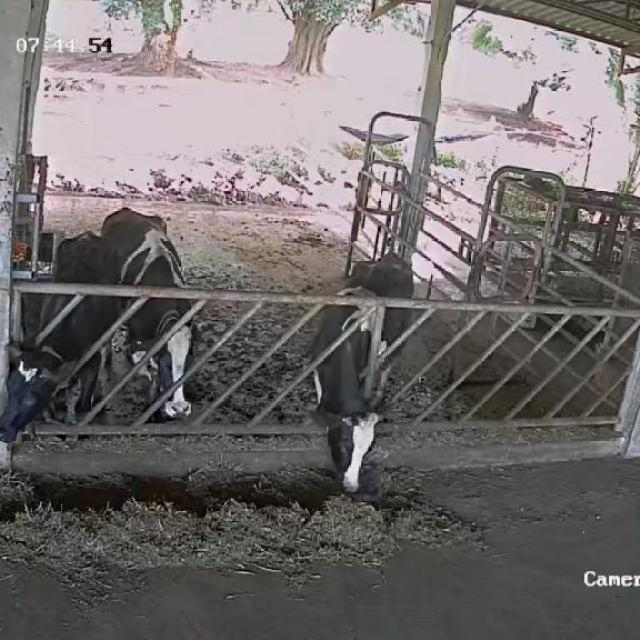feeding: (308, 244, 420, 496)
